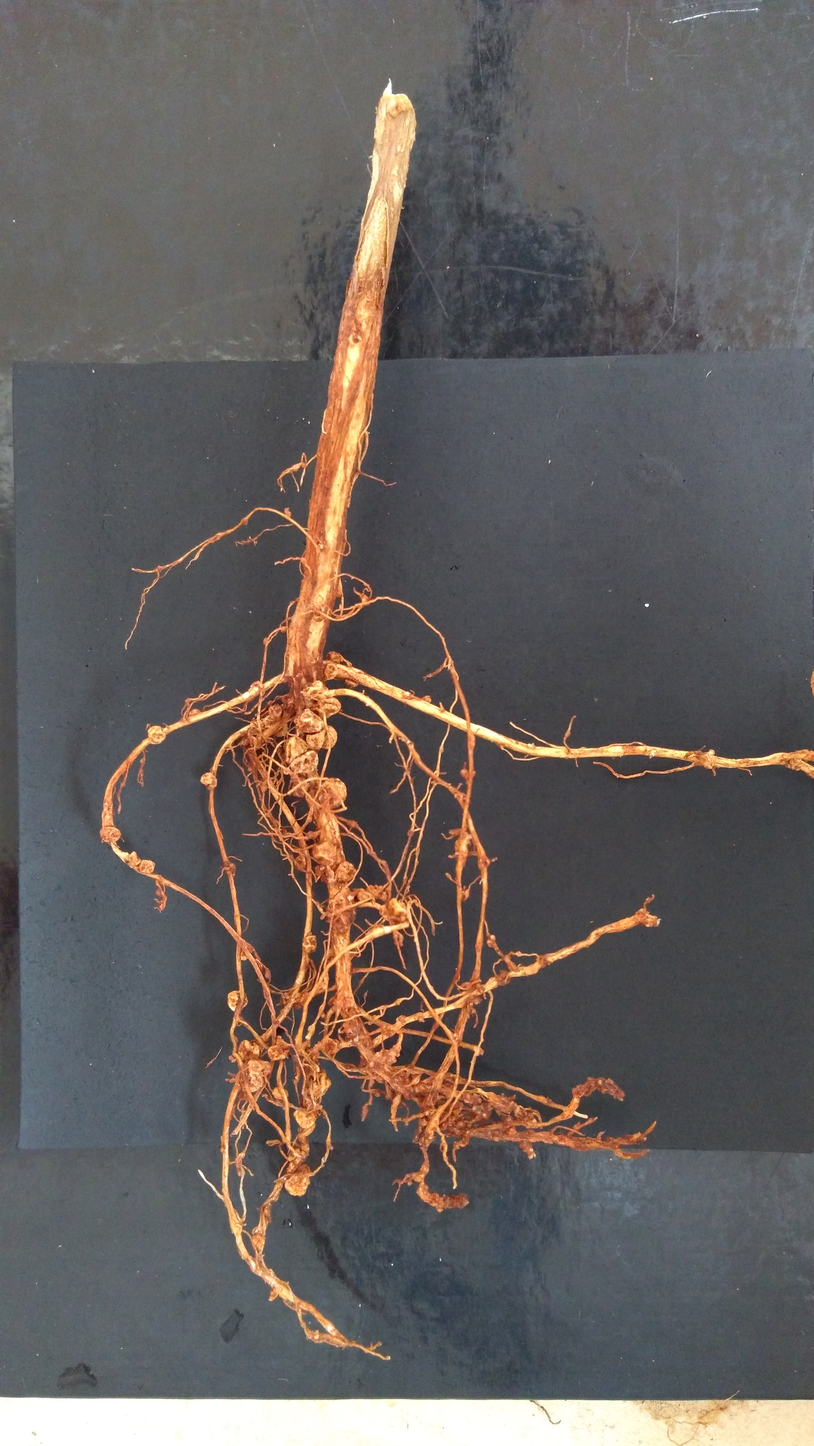nodule: (284, 735, 319, 773), (239, 1059, 272, 1093), (318, 778, 346, 810), (285, 1163, 311, 1197), (389, 1069, 418, 1099), (304, 1067, 331, 1098), (295, 707, 326, 733), (379, 896, 410, 922), (439, 1112, 471, 1137), (286, 1144, 309, 1175), (310, 841, 337, 867), (513, 1104, 538, 1129), (282, 689, 306, 714), (262, 714, 288, 737), (491, 1092, 517, 1115), (458, 982, 485, 1004), (267, 1035, 290, 1060), (312, 595, 332, 623), (317, 696, 341, 719), (411, 1124, 434, 1147), (293, 1107, 317, 1129), (237, 1040, 260, 1062), (300, 679, 324, 700), (334, 861, 358, 882), (303, 1046, 321, 1072), (227, 990, 248, 1012), (314, 864, 337, 884), (351, 888, 376, 906), (418, 1105, 438, 1126), (306, 728, 325, 750), (320, 725, 337, 749), (364, 884, 388, 901), (297, 1122, 315, 1144), (374, 1048, 397, 1065), (472, 1099, 495, 1116), (147, 725, 166, 745), (292, 775, 309, 797), (279, 990, 301, 1007), (454, 832, 472, 852), (99, 826, 121, 842), (321, 1036, 339, 1055), (358, 1054, 375, 1074), (502, 1114, 517, 1135), (200, 772, 217, 790), (519, 1139, 535, 1158), (461, 1090, 482, 1104), (323, 663, 339, 681), (420, 1075, 436, 1093), (294, 989, 309, 1008), (374, 1067, 391, 1083), (235, 1152, 246, 1176), (240, 941, 253, 961), (380, 1021, 396, 1037), (302, 935, 317, 952), (271, 1086, 288, 1101), (251, 1232, 264, 1251), (139, 859, 155, 874), (326, 651, 343, 665), (268, 703, 282, 720), (240, 735, 257, 749), (294, 853, 307, 871), (392, 929, 405, 947), (128, 850, 140, 868), (248, 720, 264, 733), (326, 948, 337, 966), (315, 685, 329, 698), (345, 1031, 359, 1044), (460, 768, 475, 780), (303, 830, 319, 841), (335, 577, 343, 598), (306, 771, 317, 786), (268, 1286, 279, 1301), (459, 886, 470, 900), (261, 775, 270, 792), (155, 879, 164, 896), (226, 861, 235, 877), (304, 696, 315, 709), (344, 678, 359, 687), (247, 762, 258, 774), (395, 1015, 407, 1026), (486, 933, 495, 947), (346, 819, 358, 829), (188, 708, 201, 717), (249, 681, 263, 689), (361, 594, 370, 606), (411, 1072, 420, 1084), (157, 899, 166, 911), (284, 507, 292, 519), (393, 1045, 401, 1057), (264, 968, 271, 979), (228, 1055, 237, 1063), (407, 828, 414, 838), (313, 1330, 319, 1341), (262, 637, 270, 645), (282, 767, 290, 775), (422, 695, 430, 703), (279, 626, 288, 633), (526, 743, 536, 749), (242, 518, 248, 526), (315, 544, 320, 553), (301, 557, 307, 564), (708, 749, 715, 755), (407, 1180, 413, 1186), (267, 701, 274, 706)
